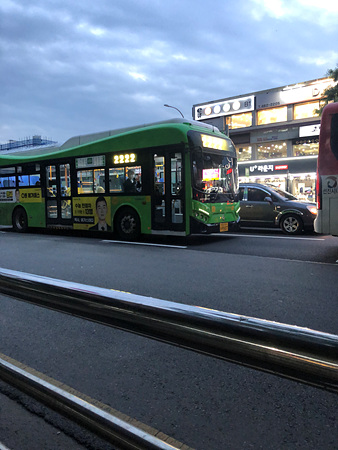entrance: (150, 146, 188, 230)
